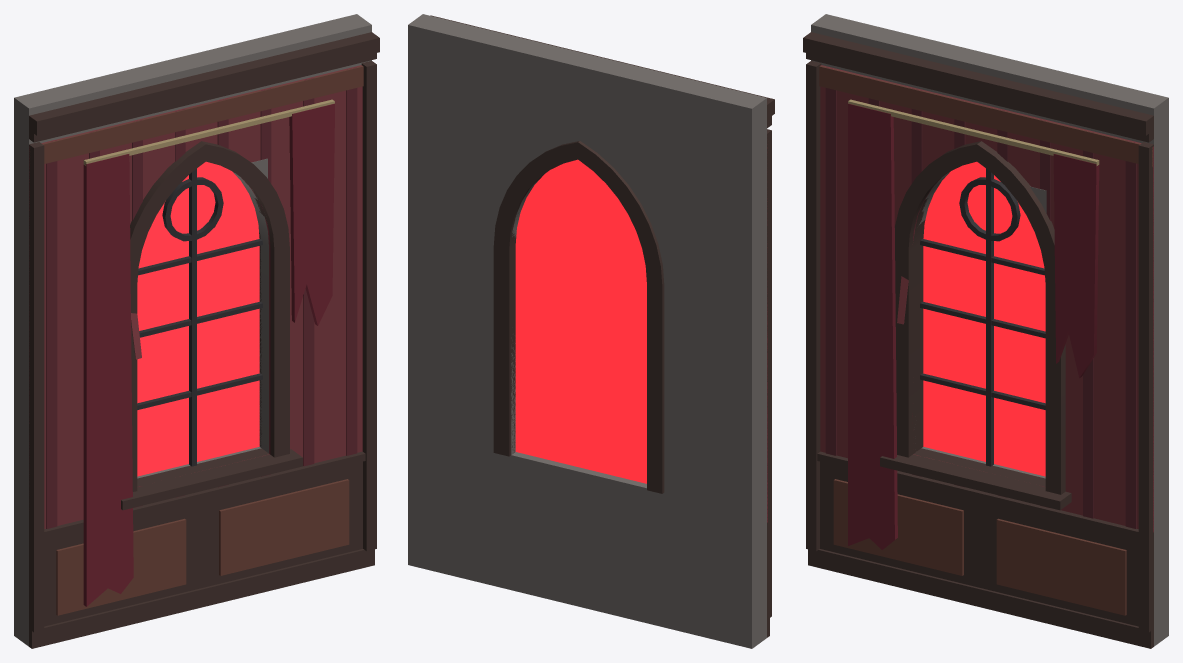
Rendered from wall_window.glb.
3 renders of one model, left to right at view 1: azimuth 30°, elevation 25°; view 2: azimuth 150°, elevation 25°; view 3: azimuth 330°, elevation 25°, orthographic.
Visible parts, largest first — view 1: WallWindow; view 2: WallWindow; view 3: WallWindow.
Boxes of the visible parts, x1,y1,x2,y2 form: WallWindow: [14, 14, 379, 648]; WallWindow: [408, 14, 774, 648]; WallWindow: [803, 14, 1168, 648].
Bounding box in the file's own units: 4 × 6 × 0.59.
